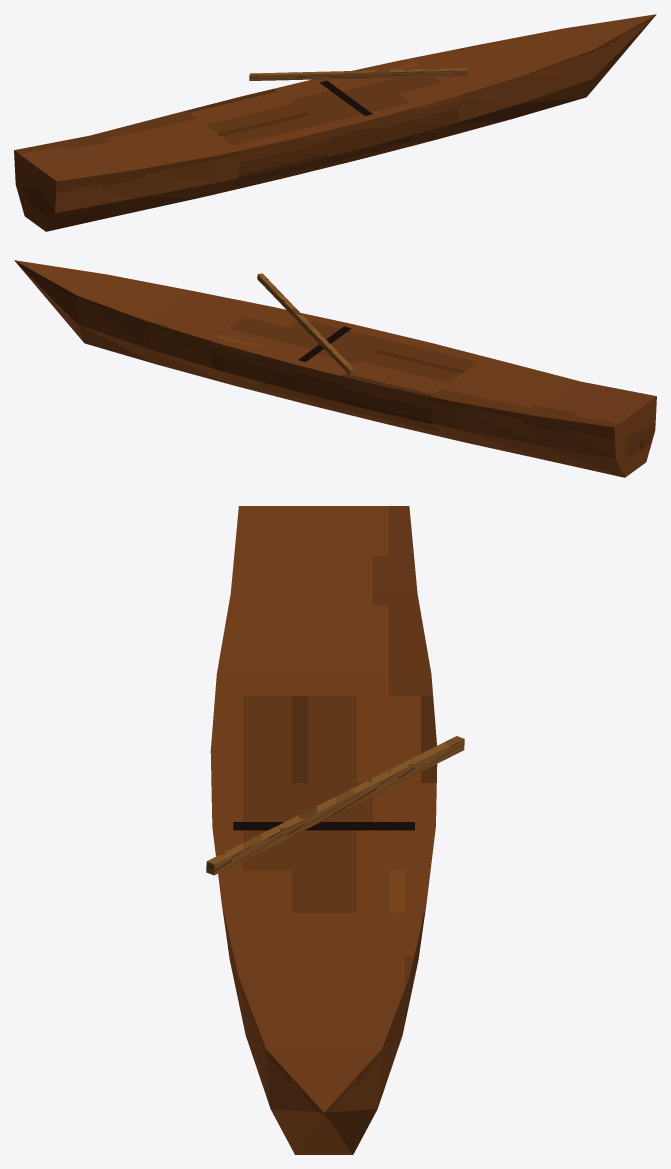
The model's file is canoa_pieles.glb.
3 renders of one model, top to bottom at view 1: azimuth 30°, elevation 25°; view 2: azimuth 150°, elevation 25°; view 3: azimuth 270°, elevation 25°, orthographic. The views are drawn at different scales.
Parts seen in each view (by area): view 1: casco, remo, cuadernas; view 2: casco, remo, cuadernas; view 3: casco, remo, cuadernas.
Part boxes in pixels (bbox=[...]): casco: bbox=[14, 14, 656, 231]; remo: bbox=[249, 68, 468, 80]; cuadernas: bbox=[319, 80, 372, 115]; casco: bbox=[14, 260, 656, 477]; remo: bbox=[257, 273, 355, 376]; cuadernas: bbox=[298, 326, 351, 361]; casco: bbox=[210, 506, 437, 1154]; remo: bbox=[206, 736, 464, 875]; cuadernas: bbox=[233, 822, 414, 830].
Size of the model in its own units: 5 by 0.6 by 0.9.
1 material, 1 textured.
